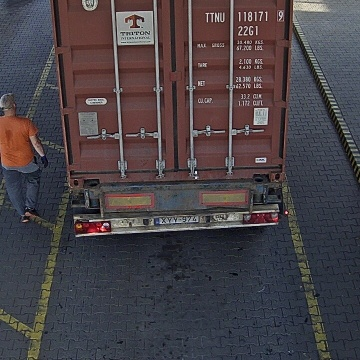serial_id: (205, 10, 284, 22)
